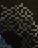cobwebT: (1, 0, 38, 48)
